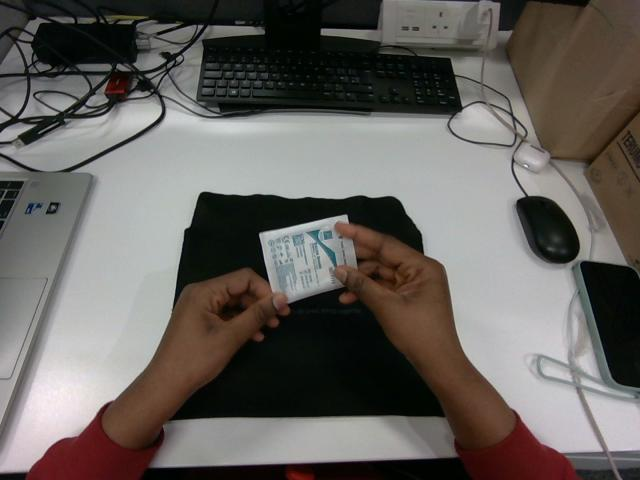gauze: (259, 215, 356, 302)
